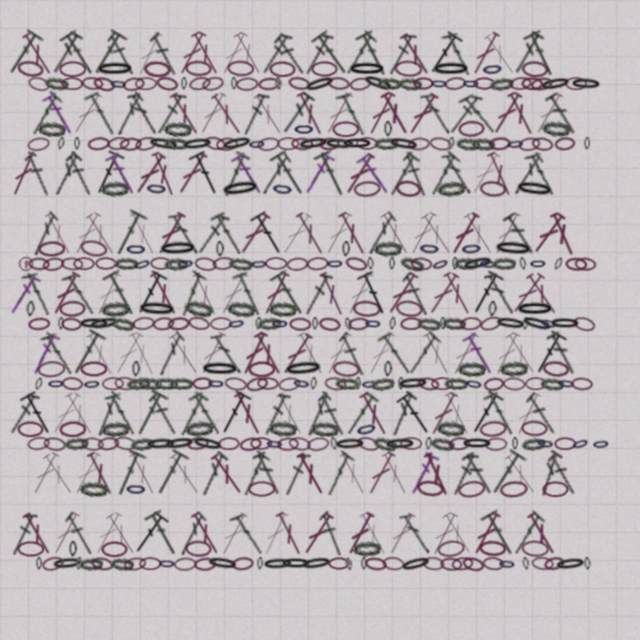chain: (220, 178, 261, 199), (514, 179, 555, 199), (361, 72, 395, 95), (493, 239, 534, 258), (283, 359, 324, 378), (303, 73, 337, 95), (137, 300, 177, 318), (158, 240, 198, 257), (520, 314, 554, 334), (399, 554, 433, 574), (183, 298, 214, 319), (220, 134, 254, 153), (461, 254, 495, 273), (95, 61, 135, 77), (347, 61, 387, 77), (431, 61, 471, 77), (515, 301, 555, 317), (200, 361, 240, 377), (79, 238, 108, 259), (539, 75, 572, 93), (147, 135, 180, 153), (387, 135, 420, 153), (191, 435, 224, 453), (16, 59, 45, 79), (457, 479, 486, 499), (436, 179, 466, 198), (184, 419, 214, 438), (297, 135, 330, 152), (88, 315, 121, 332), (494, 315, 527, 332), (163, 435, 196, 452), (206, 555, 239, 572), (300, 555, 333, 572), (100, 300, 130, 318), (226, 300, 256, 318), (100, 420, 130, 438), (395, 299, 423, 318), (416, 479, 444, 498), (437, 539, 465, 558), (181, 136, 214, 152), (554, 556, 587, 572), (37, 360, 66, 378), (499, 480, 528, 498), (395, 179, 422, 198), (541, 120, 571, 137), (143, 60, 171, 78), (521, 60, 549, 78), (353, 180, 381, 198), (479, 180, 507, 198), (332, 360, 360, 378), (542, 360, 570, 378), (479, 420, 507, 438), (354, 419, 379, 439), (51, 556, 84, 571), (394, 60, 423, 77), (100, 180, 129, 197), (373, 240, 402, 257), (352, 300, 381, 317), (499, 360, 528, 377), (268, 420, 297, 437), (436, 420, 465, 437), (352, 540, 381, 557), (397, 376, 429, 391), (521, 540, 549, 557), (399, 255, 425, 273), (372, 435, 398, 453), (37, 121, 66, 137), (163, 121, 192, 137), (268, 301, 297, 317), (457, 361, 486, 377), (310, 421, 339, 437), (79, 481, 108, 497), (185, 60, 212, 77), (227, 60, 254, 77), (458, 120, 485, 137), (59, 300, 86, 317), (521, 420, 548, 437), (185, 540, 212, 557), (479, 540, 506, 557), (479, 314, 503, 333), (570, 77, 602, 91), (324, 137, 356, 151), (145, 437, 177, 451), (334, 437, 366, 451), (384, 437, 416, 451), (262, 557, 294, 571), (59, 61, 86, 77), (269, 61, 296, 77), (311, 61, 338, 77), (27, 75, 51, 93), (92, 75, 116, 93), (332, 121, 359, 137), (38, 241, 65, 257), (344, 255, 368, 273), (572, 315, 596, 333), (80, 361, 107, 377), (248, 361, 275, 377), (245, 375, 269, 393), (17, 421, 44, 437), (59, 421, 86, 437), (356, 435, 380, 453), (248, 481, 275, 497), (542, 481, 569, 497), (17, 541, 44, 557), (101, 541, 128, 557), (461, 555, 485, 573), (341, 137, 373, 150), (78, 317, 110, 330), (549, 317, 581, 330), (461, 437, 493, 450), (280, 557, 312, 570), (481, 60, 504, 78), (271, 180, 294, 198), (155, 75, 179, 92), (188, 75, 212, 92), (201, 75, 225, 92), (287, 75, 311, 92), (134, 135, 158, 152), (203, 135, 227, 152), (187, 315, 211, 332), (113, 435, 137, 452), (41, 555, 65, 572), (489, 76, 514, 92), (110, 316, 135, 332), (370, 376, 395, 392), (130, 436, 155, 452), (430, 436, 455, 452), (521, 436, 546, 452), (145, 180, 168, 197), (418, 240, 441, 257), (460, 240, 483, 257), (543, 555, 566, 572), (306, 436, 330, 452), (90, 556, 114, 572), (123, 556, 147, 572), (132, 255, 153, 273), (430, 255, 451, 273), (44, 76, 69, 91), (257, 316, 282, 331), (126, 376, 151, 391), (137, 376, 162, 391), (64, 436, 89, 451), (122, 76, 145, 92), (349, 76, 372, 92), (530, 76, 553, 92), (27, 136, 50, 152), (257, 136, 280, 152), (429, 136, 452, 152), (518, 136, 541, 152), (531, 136, 554, 152), (42, 256, 65, 272), (194, 256, 217, 272), (318, 316, 341, 332), (224, 376, 247, 392), (278, 376, 301, 392), (324, 376, 347, 392), (417, 376, 440, 392), (43, 436, 66, 452), (239, 436, 262, 452), (288, 436, 311, 452), (364, 556, 387, 572), (570, 435, 591, 452), (293, 121, 315, 137), (125, 241, 147, 257), (483, 376, 505, 392), (125, 481, 147, 497), (228, 257, 253, 271), (81, 76, 104, 91), (327, 76, 350, 91), (444, 76, 467, 91), (509, 76, 532, 91), (87, 136, 110, 151), (107, 136, 130, 151), (488, 136, 511, 151), (212, 256, 235, 271), (306, 256, 329, 271), (132, 316, 155, 331), (152, 316, 175, 331), (167, 316, 190, 331), (459, 316, 482, 331), (61, 376, 84, 391), (114, 376, 137, 391), (27, 436, 50, 451), (97, 436, 120, 451), (186, 436, 209, 451), (448, 436, 471, 451), (231, 556, 254, 571), (382, 556, 405, 571), (422, 556, 445, 571), (451, 556, 474, 571), (482, 556, 505, 571), (531, 556, 554, 571), (539, 315, 559, 332), (398, 77, 422, 91), (456, 137, 480, 151), (471, 137, 495, 151), (164, 257, 188, 271), (417, 317, 441, 331), (540, 377, 564, 391), (79, 557, 103, 571), (110, 557, 134, 571), (554, 136, 576, 151), (119, 137, 142, 151), (286, 257, 309, 271), (410, 257, 433, 271), (574, 257, 597, 271), (81, 437, 104, 451), (464, 376, 484, 392), (377, 77, 401, 90), (164, 137, 188, 150), (374, 137, 398, 150), (114, 257, 138, 270), (454, 257, 478, 270), (492, 257, 516, 270), (442, 317, 466, 330), (154, 377, 178, 390), (169, 377, 193, 390), (335, 377, 359, 390), (444, 377, 468, 390), (236, 77, 258, 91), (258, 77, 280, 91), (216, 137, 238, 151), (291, 137, 313, 151), (408, 137, 430, 151), (28, 257, 50, 271), (61, 257, 83, 271), (565, 257, 587, 271), (28, 317, 50, 331), (289, 317, 311, 331), (348, 317, 370, 331), (503, 377, 525, 391), (571, 377, 593, 391), (277, 437, 299, 451), (485, 437, 507, 451), (174, 557, 196, 571), (194, 557, 216, 571), (440, 557, 462, 571), (319, 137, 340, 151), (61, 317, 82, 331), (61, 77, 83, 90), (135, 77, 157, 90), (473, 77, 495, 90), (521, 77, 543, 90), (565, 77, 587, 90), (277, 137, 299, 150), (356, 137, 378, 150), (73, 257, 95, 270), (95, 257, 117, 270), (150, 257, 172, 270), (265, 257, 287, 270), (210, 317, 232, 330), (400, 317, 422, 330), (102, 377, 124, 390), (257, 377, 279, 390), (431, 377, 453, 390), (525, 377, 547, 390), (218, 437, 240, 450), (250, 437, 272, 450), (400, 437, 422, 450), (554, 437, 576, 450), (139, 557, 161, 570), (328, 557, 350, 570), (176, 256, 195, 271), (227, 316, 246, 331), (292, 376, 311, 391), (557, 376, 576, 391), (536, 436, 555, 451), (413, 77, 434, 90), (192, 377, 213, 390), (109, 77, 128, 91), (506, 137, 525, 151), (265, 437, 284, 451), (248, 137, 266, 151), (250, 257, 268, 271), (479, 257, 497, 271), (83, 377, 101, 391), (361, 377, 379, 391), (592, 437, 610, 451), (498, 557, 516, 571), (430, 77, 448, 90), (462, 77, 480, 90), (326, 257, 344, 270), (529, 257, 547, 270), (271, 317, 289, 330), (364, 317, 382, 330), (47, 377, 65, 390), (207, 377, 225, 390), (158, 557, 176, 570), (26, 301, 35, 317), (488, 301, 497, 317), (553, 257, 563, 271), (384, 121, 392, 137), (216, 241, 224, 257), (342, 241, 350, 257), (132, 361, 140, 377), (384, 361, 392, 377), (69, 541, 77, 557), (344, 317, 353, 331), (34, 377, 43, 391), (345, 557, 353, 571), (57, 137, 65, 150), (447, 137, 455, 150), (519, 257, 527, 270), (330, 437, 338, 450), (522, 557, 530, 570), (275, 77, 282, 90), (367, 257, 374, 270), (255, 317, 262, 330), (389, 317, 396, 330), (522, 317, 529, 330), (310, 377, 317, 390), (425, 437, 432, 450), (584, 557, 591, 570), (181, 77, 187, 90), (231, 77, 237, 90), (74, 137, 80, 150), (584, 137, 590, 150), (389, 257, 395, 270), (452, 257, 458, 270), (58, 317, 64, 330), (312, 317, 318, 330), (440, 317, 446, 330), (355, 377, 361, 390), (398, 377, 404, 390), (512, 437, 518, 450), (36, 557, 42, 570), (76, 557, 82, 570), (257, 557, 263, 570), (361, 557, 367, 570)
double: (311, 29, 353, 78), (3, 29, 44, 78), (59, 29, 100, 78), (269, 149, 310, 198), (269, 269, 310, 318), (486, 449, 527, 498), (395, 390, 436, 438), (129, 510, 170, 558), (88, 29, 128, 78), (67, 329, 107, 378), (480, 509, 520, 558), (424, 30, 464, 78), (249, 209, 288, 258), (102, 269, 141, 318), (466, 389, 505, 438), (151, 449, 190, 498), (144, 509, 183, 558), (355, 29, 393, 79), (313, 149, 351, 199), (110, 209, 148, 259), (131, 389, 169, 439), (458, 91, 499, 137), (403, 330, 443, 377), (340, 390, 380, 437), (131, 269, 169, 318), (467, 269, 505, 318), (530, 329, 568, 378), (19, 389, 57, 438), (215, 389, 253, 438), (523, 29, 560, 79), (340, 30, 379, 77), (508, 510, 547, 557), (26, 90, 64, 138), (383, 150, 421, 198), (61, 270, 99, 318), (376, 330, 414, 378), (229, 510, 267, 558), (111, 449, 147, 499), (383, 270, 421, 317), (502, 330, 540, 377), (425, 150, 462, 198), (40, 330, 77, 378), (173, 390, 210, 438), (187, 390, 224, 438), (90, 149, 126, 198), (188, 149, 224, 198), (356, 269, 392, 318), (529, 211, 568, 256), (508, 271, 547, 316), (481, 31, 519, 77), (208, 91, 246, 137), (278, 91, 316, 137), (131, 151, 169, 197), (355, 151, 393, 197), (418, 211, 456, 257), (523, 271, 561, 317), (166, 451, 204, 497), (208, 451, 246, 497), (502, 451, 540, 497), (467, 150, 504, 197), (439, 510, 476, 557), (209, 210, 245, 258), (104, 390, 140, 438), (356, 390, 392, 438), (19, 31, 56, 77), (397, 31, 434, 77), (250, 91, 287, 137), (404, 91, 441, 137), (544, 91, 581, 137), (341, 151, 378, 197), (82, 211, 119, 257), (236, 211, 273, 257), (278, 211, 315, 257), (502, 211, 539, 257), (5, 271, 42, 317), (425, 271, 462, 317), (166, 331, 203, 377), (278, 331, 315, 377), (40, 451, 77, 497), (103, 511, 140, 557), (299, 511, 336, 557), (48, 30, 84, 77), (230, 30, 266, 77), (41, 90, 77, 137), (69, 90, 105, 137), (167, 90, 203, 137), (377, 90, 413, 137), (489, 90, 525, 137), (174, 150, 210, 197), (230, 150, 266, 197), (300, 150, 336, 197), (377, 210, 413, 257), (461, 210, 497, 257), (461, 330, 497, 377), (48, 390, 84, 437), (293, 450, 329, 497), (461, 450, 497, 497), (524, 510, 560, 557), (83, 90, 118, 138), (335, 90, 370, 138), (524, 150, 559, 198), (83, 330, 118, 378), (447, 330, 482, 378), (426, 390, 461, 438), (482, 390, 517, 438), (237, 450, 272, 498), (321, 450, 356, 498), (216, 510, 251, 558), (384, 510, 419, 558), (188, 30, 223, 77), (468, 30, 503, 77), (510, 30, 545, 77), (195, 90, 230, 137), (321, 90, 356, 137), (531, 90, 566, 137), (104, 150, 139, 197), (41, 210, 76, 257), (153, 210, 188, 257), (293, 210, 328, 257), (321, 210, 356, 257), (335, 210, 370, 257), (447, 210, 482, 257), (48, 270, 83, 317), (216, 270, 251, 317), (440, 270, 475, 317), (111, 330, 146, 377), (251, 330, 286, 377), (62, 390, 97, 437), (20, 510, 55, 557), (188, 510, 223, 557), (356, 510, 391, 557), (441, 30, 475, 78), (217, 150, 251, 198), (21, 270, 55, 318), (490, 330, 524, 378), (427, 510, 461, 558), (175, 30, 209, 77), (217, 30, 251, 77), (364, 90, 398, 137), (504, 90, 538, 137), (70, 210, 104, 257), (126, 210, 160, 257), (406, 210, 440, 257), (490, 210, 524, 257), (147, 270, 181, 317), (294, 330, 328, 377), (364, 330, 398, 377), (420, 330, 454, 377), (546, 330, 580, 377), (231, 390, 265, 437), (273, 390, 307, 437), (28, 450, 62, 497), (70, 450, 104, 497), (126, 450, 160, 497), (336, 450, 370, 497), (364, 450, 398, 497), (378, 450, 412, 497), (406, 450, 440, 497), (49, 510, 83, 557), (91, 510, 125, 557), (343, 510, 377, 557), (469, 510, 503, 557), (133, 30, 166, 78), (272, 32, 308, 76), (447, 92, 483, 136), (7, 150, 40, 198), (175, 270, 208, 318), (189, 270, 222, 318), (231, 270, 264, 318), (511, 390, 544, 438), (259, 510, 292, 558), (524, 391, 559, 436), (49, 151, 83, 197), (294, 90, 327, 137), (259, 270, 292, 317), (343, 270, 376, 317), (28, 330, 61, 377), (126, 330, 159, 377), (196, 330, 229, 377), (238, 330, 271, 377), (322, 330, 355, 377), (441, 390, 474, 437), (84, 450, 117, 497), (252, 450, 285, 497), (273, 510, 306, 557), (258, 152, 293, 196), (510, 152, 545, 196), (195, 212, 230, 256), (484, 150, 516, 198), (547, 210, 579, 258), (92, 270, 124, 318), (316, 270, 348, 318), (421, 450, 453, 498), (259, 31, 293, 76), (364, 211, 398, 256), (210, 331, 244, 376), (399, 511, 433, 556), (196, 451, 229, 497), (148, 150, 179, 198), (105, 31, 138, 76), (154, 91, 187, 136), (420, 91, 453, 136), (441, 151, 474, 196), (168, 211, 201, 256), (7, 391, 40, 436), (147, 391, 180, 436), (546, 451, 579, 496), (63, 511, 96, 556), (148, 31, 180, 77), (302, 31, 334, 77), (113, 91, 145, 137), (127, 91, 159, 137), (400, 271, 432, 317), (484, 271, 516, 317), (316, 391, 348, 437), (386, 391, 418, 437), (176, 511, 208, 557), (386, 31, 417, 77), (64, 151, 95, 197), (29, 211, 60, 257), (302, 271, 333, 317), (155, 331, 186, 377), (337, 331, 368, 377), (240, 91, 270, 137), (23, 151, 53, 197), (261, 391, 291, 437), (303, 391, 333, 437), (317, 510, 346, 557), (401, 151, 430, 197), (93, 391, 122, 437), (282, 451, 311, 497), (450, 451, 479, 497), (9, 511, 38, 557), (535, 450, 563, 497)
noise: (16, 254, 36, 274)
